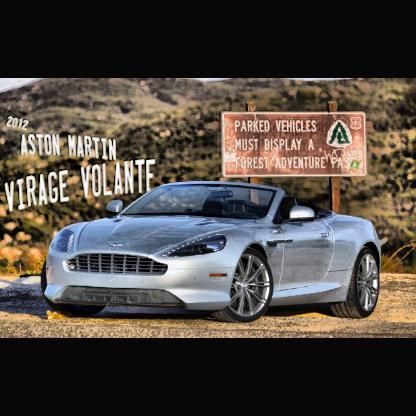Aston Martin Virage Convertible 2012: (40, 178, 385, 323)
